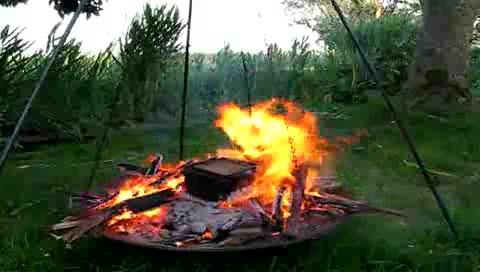fire: (215, 84, 319, 206)
